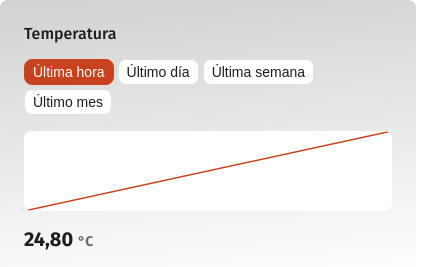
Test: ChartWidgetComponent › equivalente por teclado del tooltip (WCAG 2.1 AA 2.1.1 / 1.4.13) › End salta al último punto y la región aria-live anuncia el valor
This screenshot has width=433, height=267.
Focus the picture named "Temperatura" at (208, 171), box left=24, top=131, right=392, bottom=211
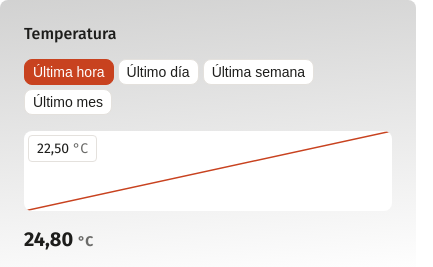
Press End in the picture named "Temperatura", box left=24, top=131, right=392, bottom=211
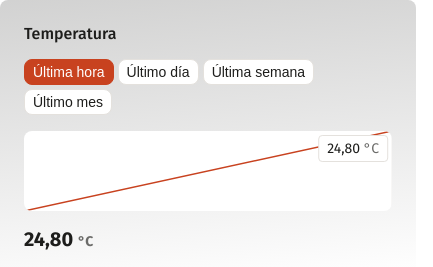
Check: the element with class "chart-plot__tooltip" reads "24,80 °C", box left=318, top=135, right=388, bottom=162
